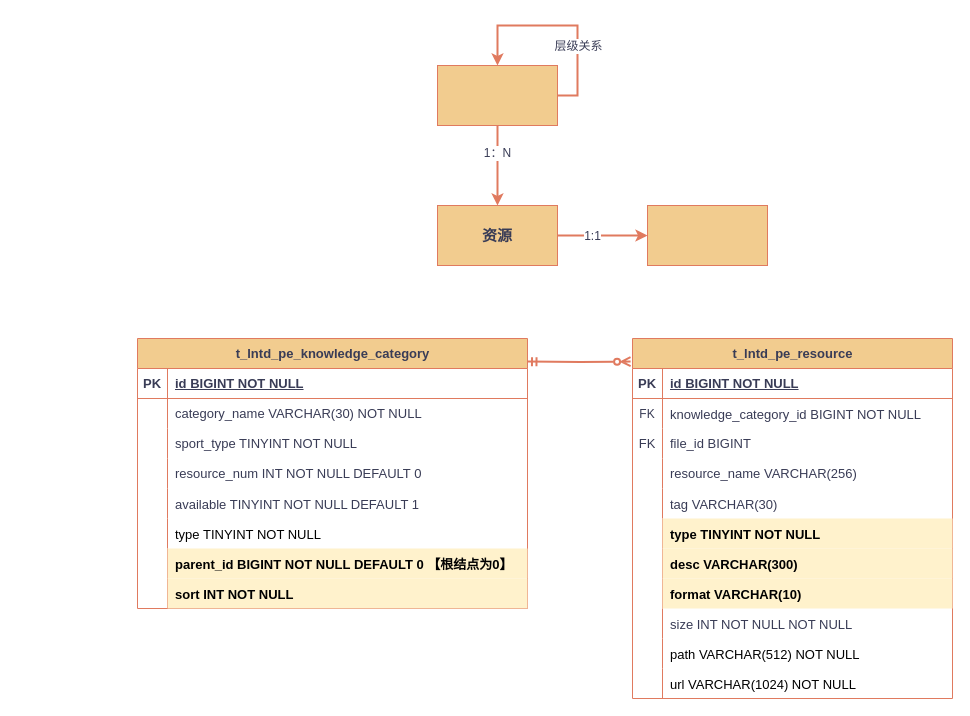
Image size: 970x716. Some labels were removed from this diagram. The shapes that lost their labels are listed below. From the top down, each one's centre as x and y in pixels, then its label:
point 497,95: 知识体系项
point 707,235: 文件
